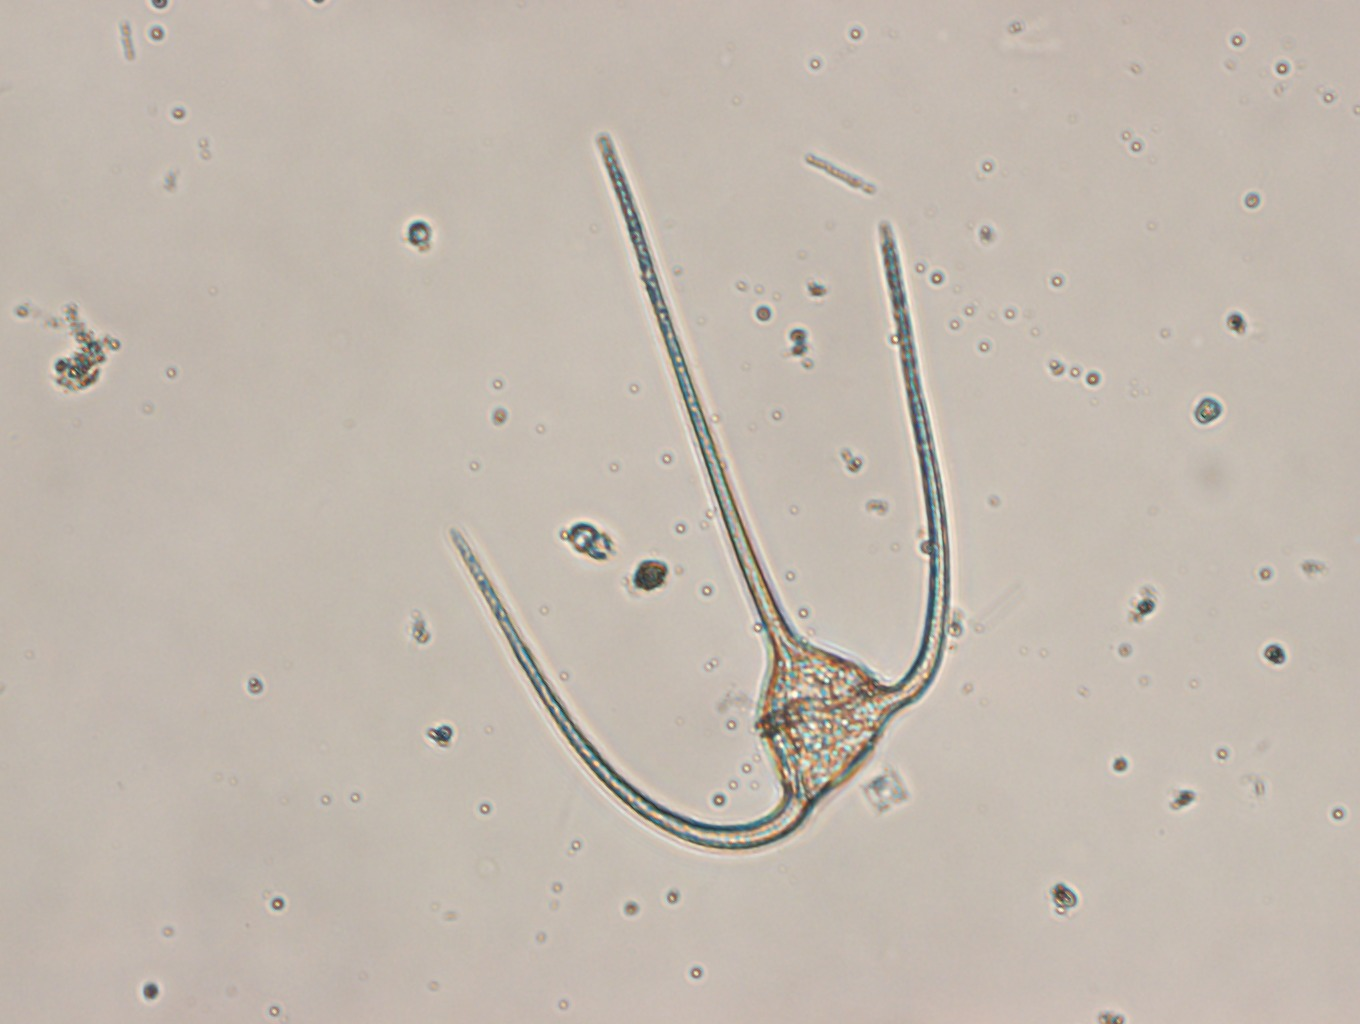ceratium trichoceros: (442, 132, 950, 855)
